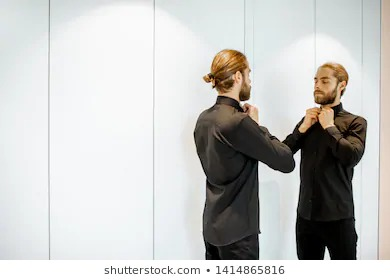S_shirt: (191, 99, 294, 239)
